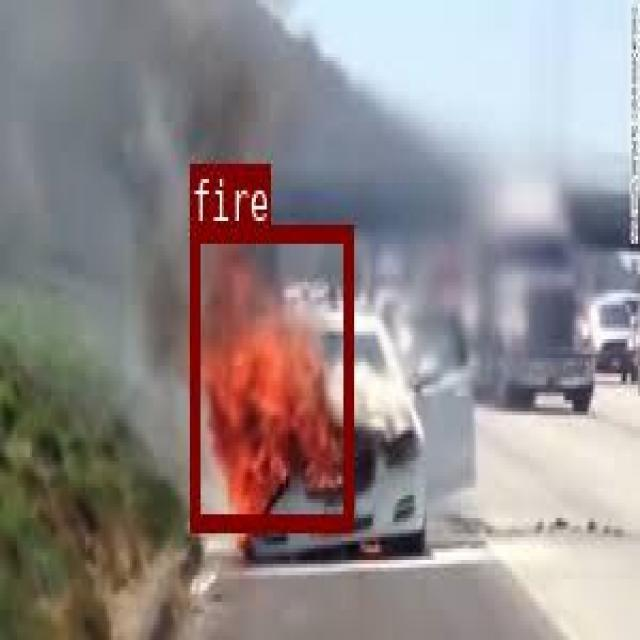fire: (188, 222, 352, 529)
